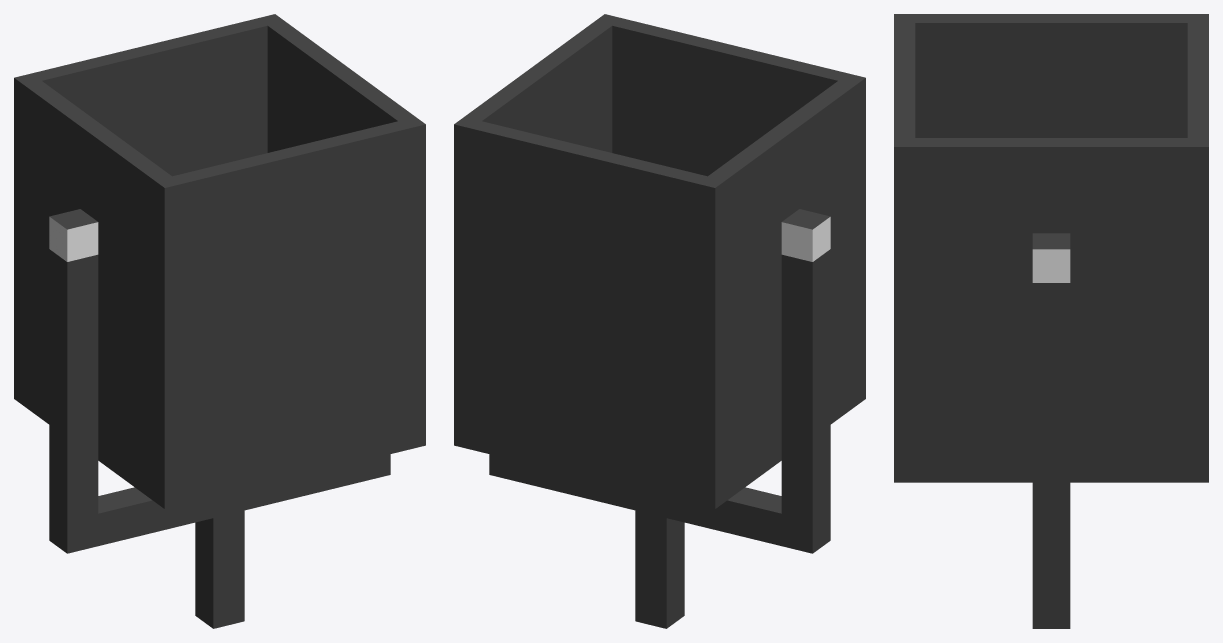
File: TrashCan_Mesh.fbx
3 views of the same model, side by side, from view 1: azimuth 30°, elevation 25°; view 2: azimuth 150°, elevation 25°; view 3: azimuth 270°, elevation 25° (orthographic). The views are drawn at different scales.
Visible parts, largest first — view 1: TrashCan; view 2: TrashCan; view 3: TrashCan.
Boxes of the visible parts, x1,y1,x2,y2 form: TrashCan: (14,14,425,628); TrashCan: (454,14,865,628); TrashCan: (894,14,1208,628).
Bounding box in the file's own units: 78 × 119 × 63.
